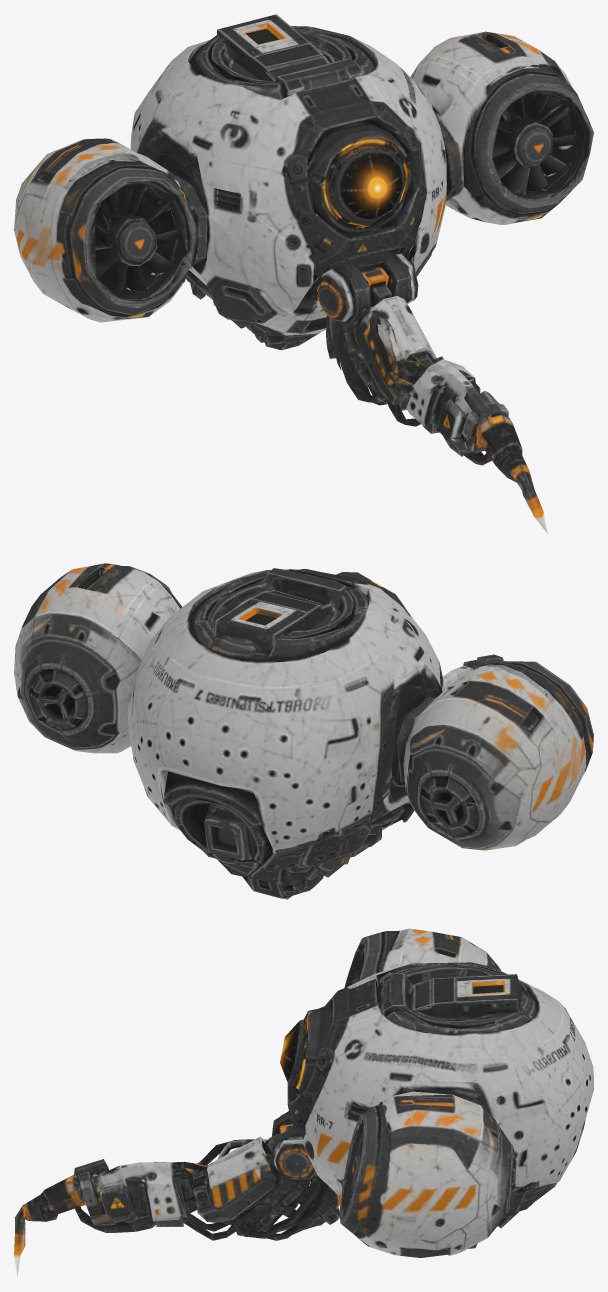
File: repair-bot.glb
3 views of the same model, one above another, from view 1: azimuth 30°, elevation 25°; view 2: azimuth 150°, elevation 25°; view 3: azimuth 270°, elevation 25° (orthographic). The views are drawn at different scales.
Visible parts, largest first — view 1: repair-bot; view 2: repair-bot; view 3: repair-bot.
Part boxes in pixels (box(x1,y1,x2,y2)): repair-bot: box(14, 14, 593, 533); repair-bot: box(14, 563, 593, 899); repair-bot: box(14, 928, 593, 1276).
Size of the model in its own units: 4.8 by 2.68 by 5.
Materials: 1 (1 with a texture image).
